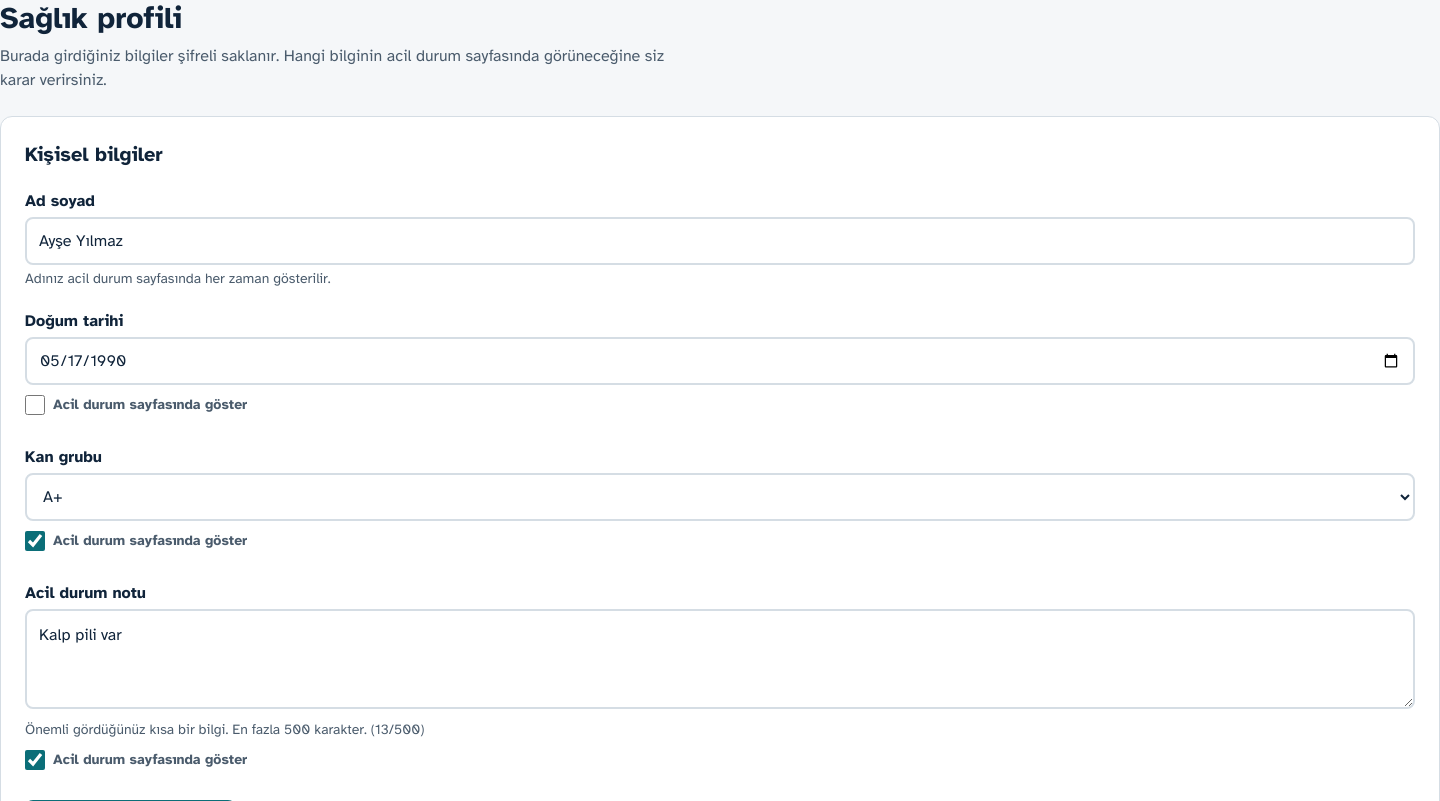
Test case: Sağlık profili sayfası › kişisel bilgileri kaydeder ve bildirim gösterir
Expected: the heading "Sağlık profili" is shown, top-left (0, 0), bottom-right (182, 37)
Select "0-" in the dropdown labelled "Kan grubu" at (720, 497), box top-left (25, 473), bottom-right (1415, 521)
(page scrolled)
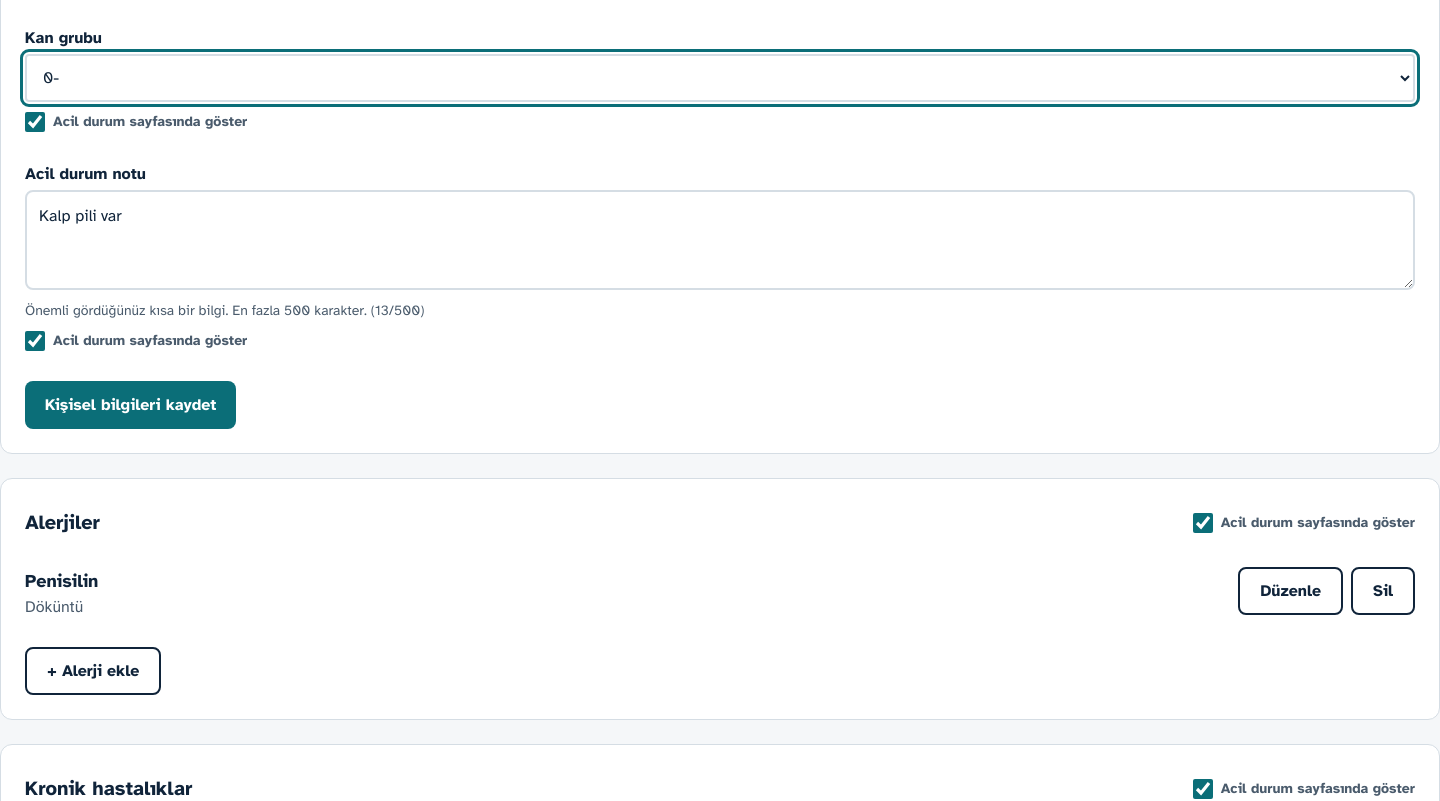
Click the button "Kişisel bilgileri kaydet" at (131, 405), box top-left (25, 381), bottom-right (236, 429)
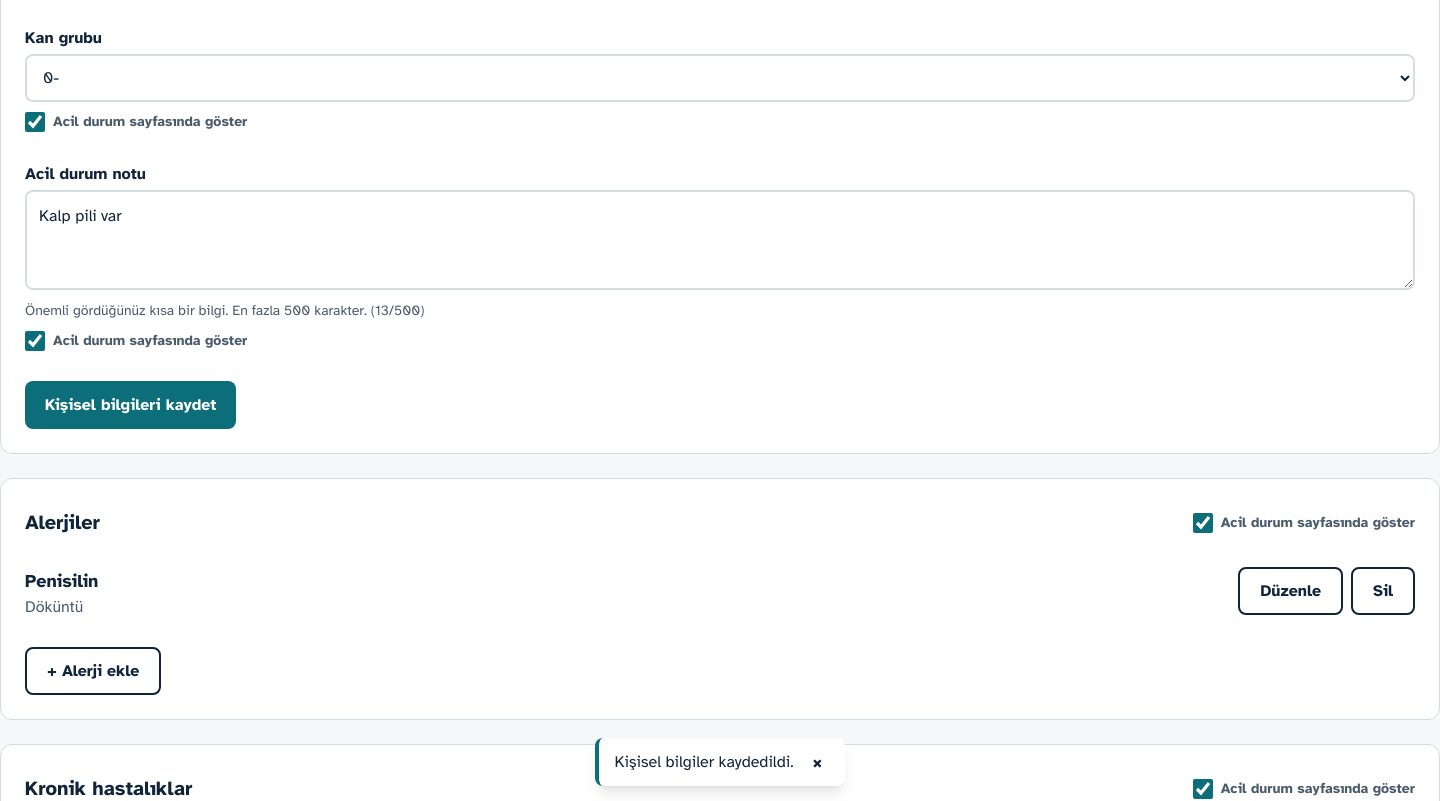
Expected: the text "Kişisel bilgiler kaydedildi." is shown, top-left (615, 750), bottom-right (794, 774)
